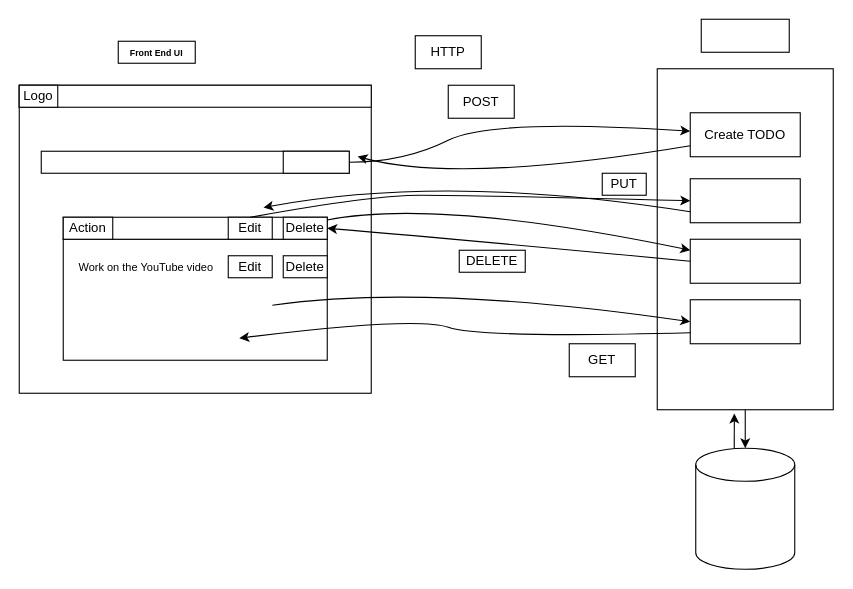
Some shapes in this 853 by 589 pixel diagram are drawn without their labels. Here are the shapes that lost their labels. From the top down, the centre of each, then its label:
At (744,35): "SERVER".
At (315,161): "Submit".
At (744,200): "Update TODO".
At (744,260): "Delete TODO".
At (744,321): "Read All TODOS".
At (745,508): "Database POSTGRES SQL".
